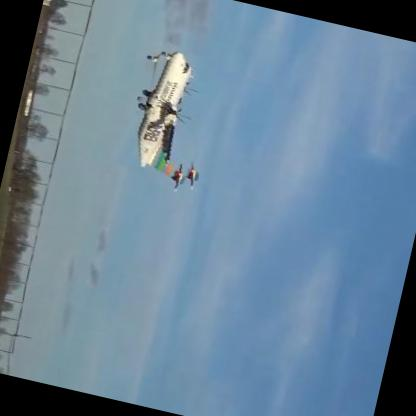plane: (112, 39, 233, 195)
